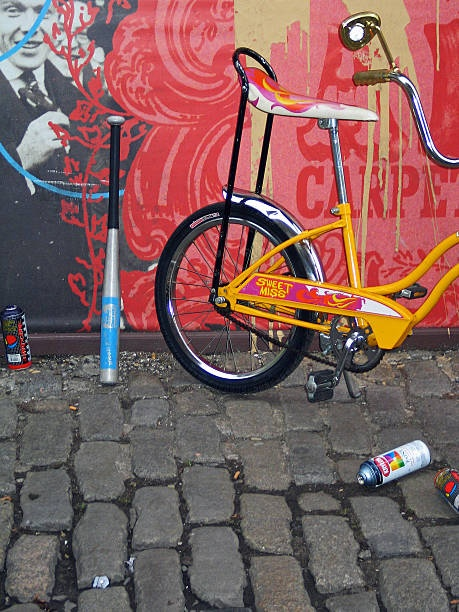bita: (93, 114, 131, 384)
